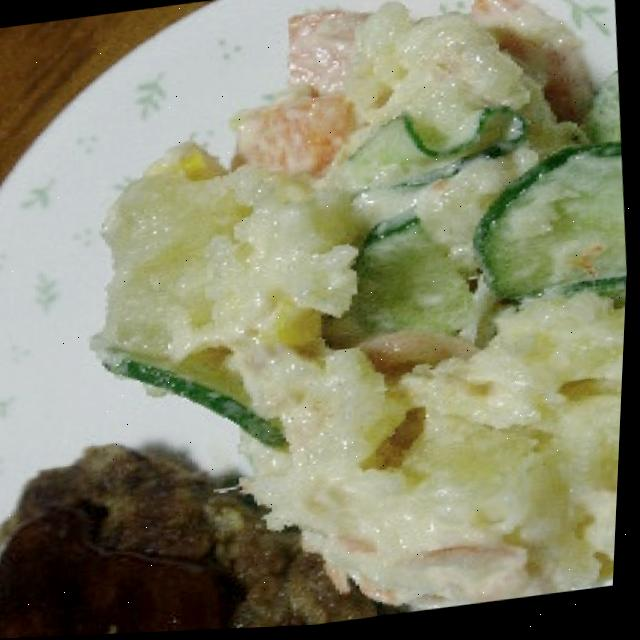蔬菜料理: (51, 0, 640, 637)
